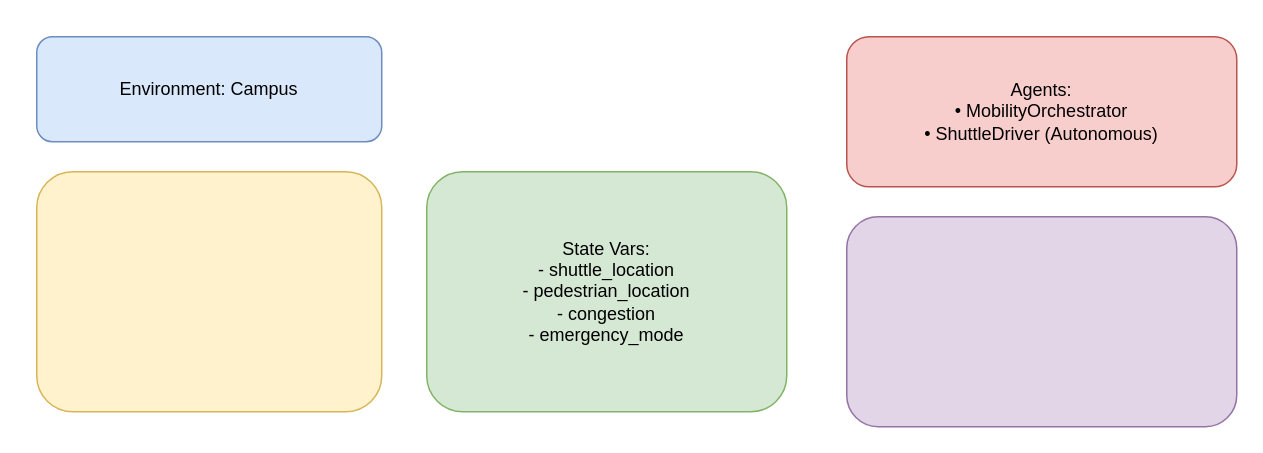
This 1263x453 diagram has some shape labels left out. The shapes that lost their labels are listed below. From the top down, each one's centre as x and y in pixels, then its label:
At pixel 208 291: "Objects: - Building - RoadSegment - Pedestrian - Shuttle - Bot".
At pixel 1041 321: "Norms: - Right-of-way rules - Speed limits - Emergency overrides".
